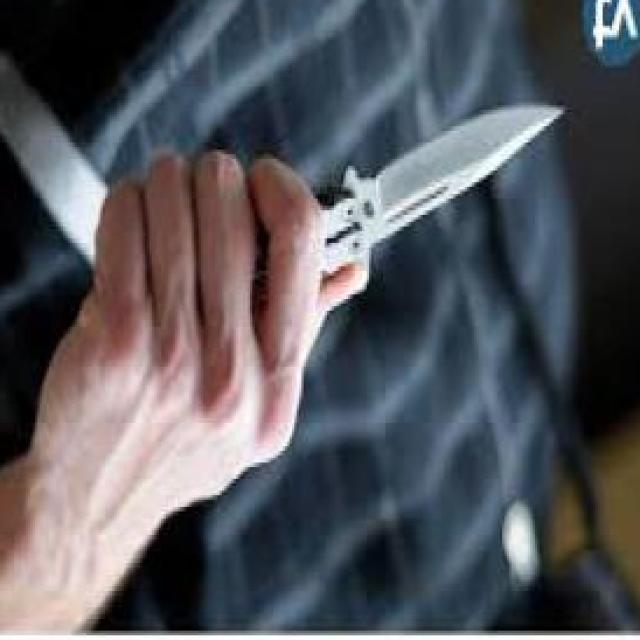knife: (210, 93, 566, 367)
